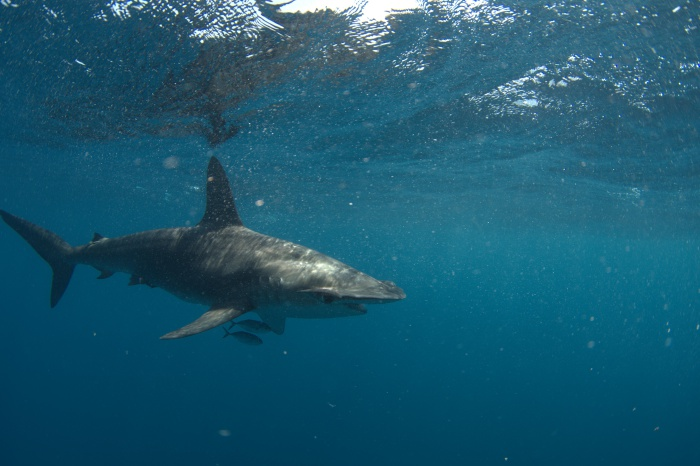Hammer: (1, 147, 431, 368)
